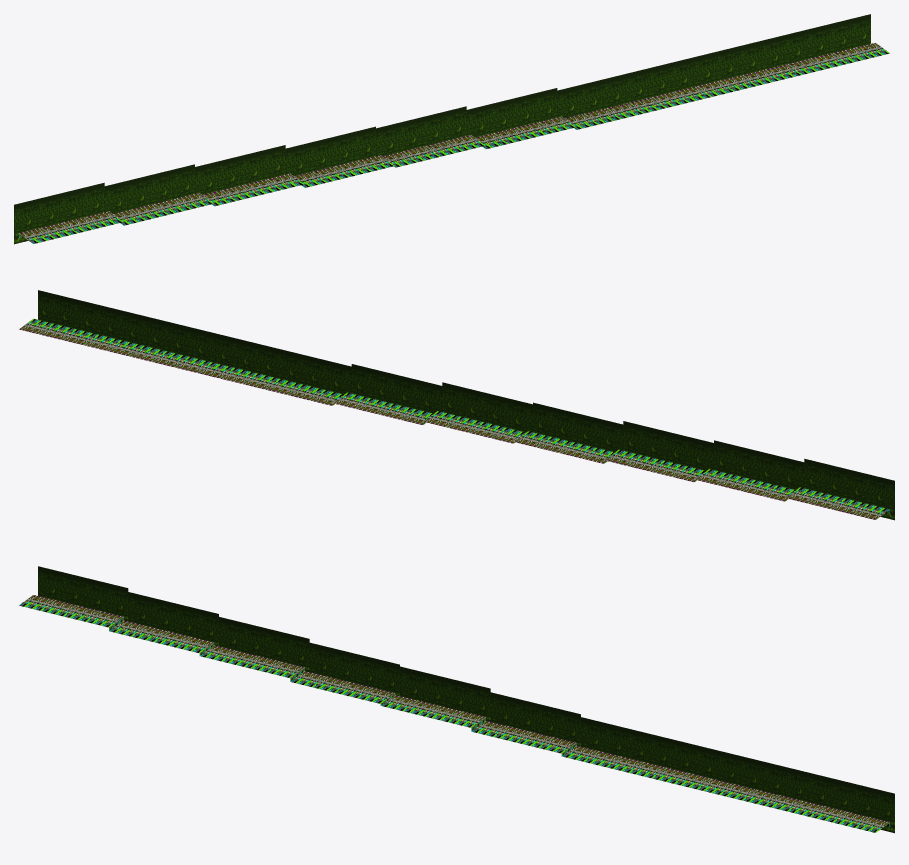
Rendered from EggmanSecreta.glb.
The picture shows the model from 3 angles, top to bottom: view 1: azimuth 30°, elevation 25°; view 2: azimuth 150°, elevation 25°; view 3: azimuth 330°, elevation 25°; orthographic projection.
Visible parts, largest first — view 1: Eggman_Sector_0, Eggman_Sector_8, Eggman_Sector_7, Eggman_Sector_4, Eggman_Sector_5, Eggman_Sector_3, Eggman_Sector_1, Eggman_Sector_9, Eggman_Sector_6, Eggman_Sector_2; view 2: Eggman_Sector_0, Eggman_Sector_8, Eggman_Sector_7, Eggman_Sector_4, Eggman_Sector_5, Eggman_Sector_3, Eggman_Sector_1, Eggman_Sector_9, Eggman_Sector_6, Eggman_Sector_2; view 3: Eggman_Sector_3, Eggman_Sector_5, Eggman_Sector_1, Eggman_Sector_4, Eggman_Sector_0, Eggman_Sector_8, Eggman_Sector_7, Eggman_Sector_9, Eggman_Sector_6, Eggman_Sector_2.
Boxes of the visible parts, bbox=[...] form: Eggman_Sector_0: bbox=[14, 182, 123, 244]; Eggman_Sector_8: bbox=[693, 35, 802, 96]; Eggman_Sector_7: bbox=[602, 57, 711, 118]; Eggman_Sector_4: bbox=[353, 112, 462, 171]; Eggman_Sector_5: bbox=[444, 93, 553, 150]; Eggman_Sector_3: bbox=[263, 132, 372, 189]; Eggman_Sector_1: bbox=[104, 164, 213, 225]; Eggman_Sector_9: bbox=[783, 14, 889, 74]; Eggman_Sector_6: bbox=[534, 79, 621, 132]; Eggman_Sector_2: bbox=[195, 150, 281, 206]; Eggman_Sector_0: bbox=[785, 458, 894, 520]; Eggman_Sector_8: bbox=[106, 311, 215, 372]; Eggman_Sector_7: bbox=[197, 333, 306, 394]; Eggman_Sector_4: bbox=[446, 388, 555, 447]; Eggman_Sector_5: bbox=[355, 369, 464, 426]; Eggman_Sector_3: bbox=[536, 408, 645, 465]; Eggman_Sector_1: bbox=[695, 440, 804, 501]; Eggman_Sector_9: bbox=[19, 290, 125, 350]; Eggman_Sector_6: bbox=[287, 355, 374, 408]; Eggman_Sector_2: bbox=[627, 426, 713, 482]; Eggman_Sector_3: bbox=[268, 633, 377, 698]; Eggman_Sector_5: bbox=[449, 683, 558, 747]; Eggman_Sector_1: bbox=[109, 592, 218, 653]; Eggman_Sector_4: bbox=[358, 659, 467, 722]; Eggman_Sector_0: bbox=[19, 566, 128, 627]; Eggman_Sector_8: bbox=[698, 750, 807, 811]; Eggman_Sector_7: bbox=[607, 728, 716, 789]; Eggman_Sector_9: bbox=[788, 772, 894, 833]; Eggman_Sector_6: bbox=[539, 709, 626, 767]; Eggman_Sector_2: bbox=[199, 617, 286, 672].
Bounding box in the file's own units: 258 × 16.66 × 12.47.
Materials: 1 (1 with a texture image).
